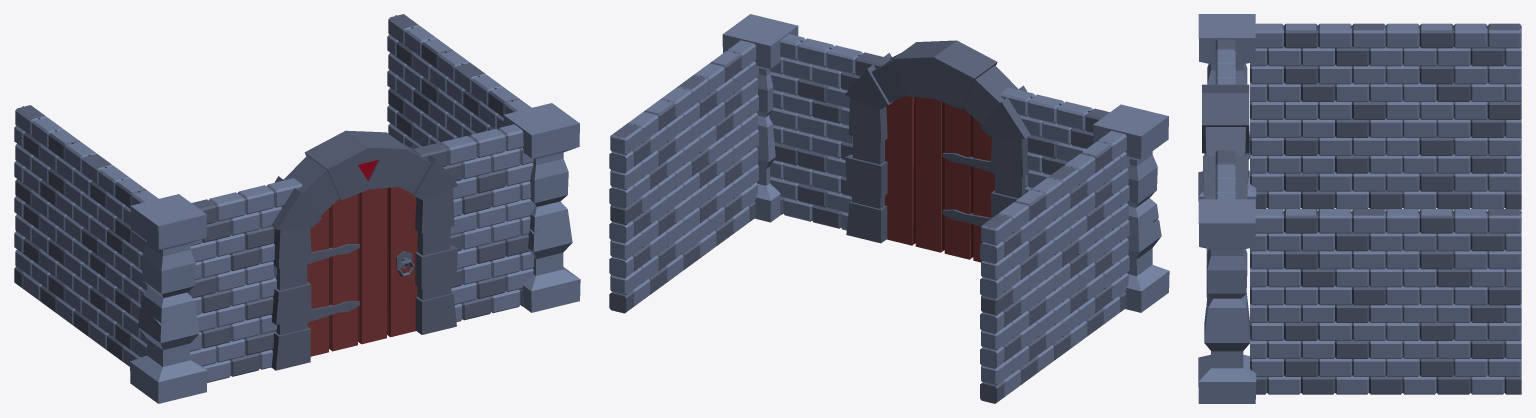
Rendered from Gate.fbx.
3 views of the same model, side by side, from view 1: azimuth 30°, elevation 25°; view 2: azimuth 150°, elevation 25°; view 3: azimuth 270°, elevation 25° (orthographic). The views are drawn at different scales.
Visible parts, largest first — view 1: Gate; view 2: Gate; view 3: Gate.
Boxes of the visible parts, x1,y1,x2,y2 form: Gate: [14, 14, 580, 403]; Gate: [609, 14, 1169, 403]; Gate: [1198, 14, 1521, 403].
Size of the model in its own units: 768 by 354 by 501.
